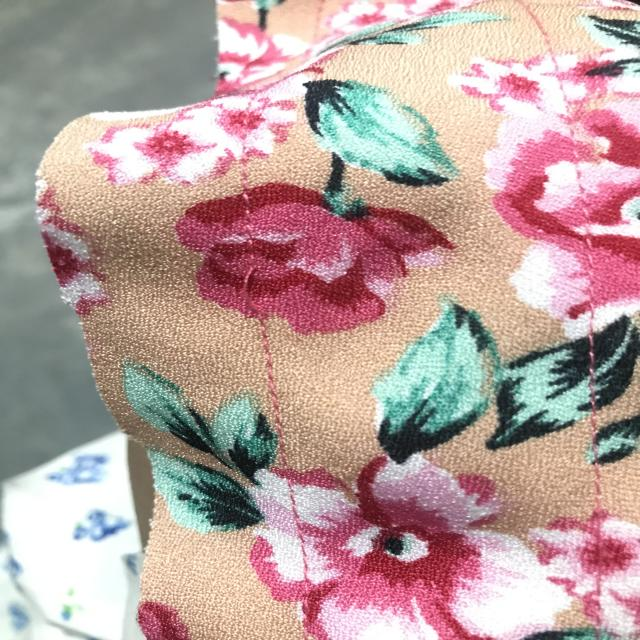skip: (233, 262, 275, 324)
